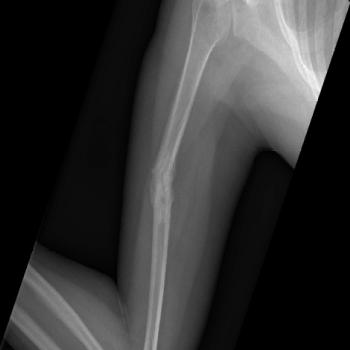Fracture: (147, 153, 178, 220)
